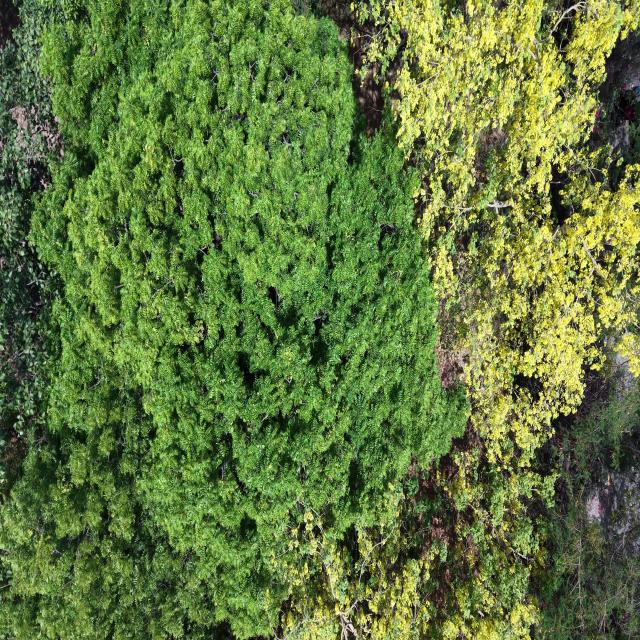VEGETATION_TREE: (0, 0, 639, 639), (2, 0, 467, 637), (352, 0, 639, 636), (359, 0, 639, 464), (0, 3, 63, 496), (0, 21, 61, 494), (538, 381, 639, 639)
